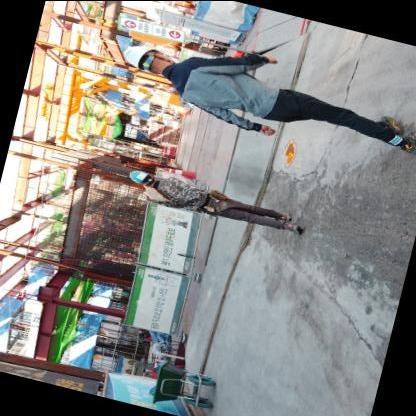safety-shoe: (397, 125, 415, 164), (377, 113, 404, 134), (281, 220, 305, 237), (275, 209, 297, 224)
